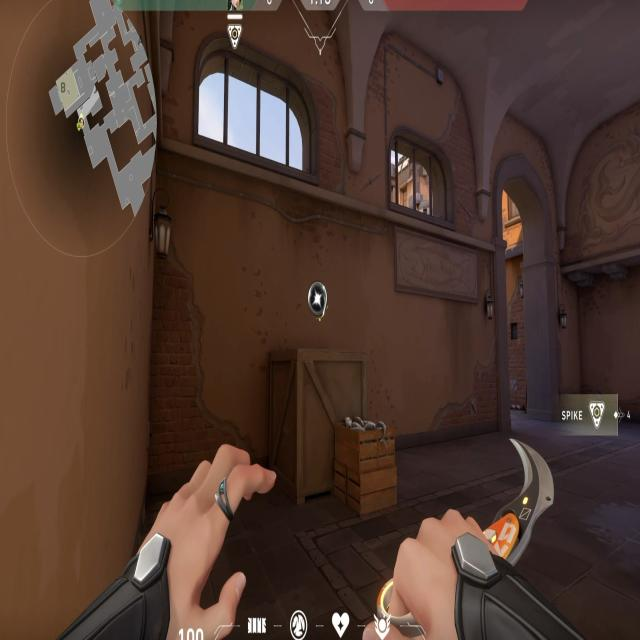B_Main_Wallbang: (206, 272, 336, 496)
Throwables: (195, 25, 324, 193), (382, 116, 460, 234)
